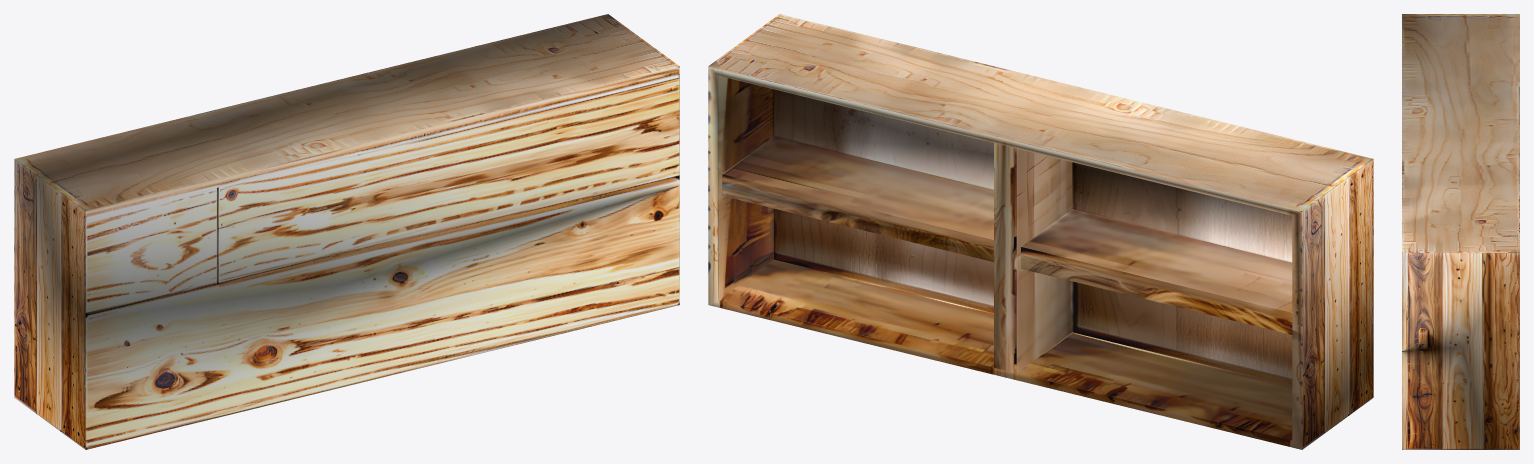
The model's file is shelf.glb.
3 views of the same model, side by side, from view 1: azimuth 30°, elevation 25°; view 2: azimuth 150°, elevation 25°; view 3: azimuth 270°, elevation 25° (orthographic). The views are drawn at different scales.
Size of the model in its own units: 20 by 7.68 by 4.17.
Materials: 1 (1 with a texture image).
